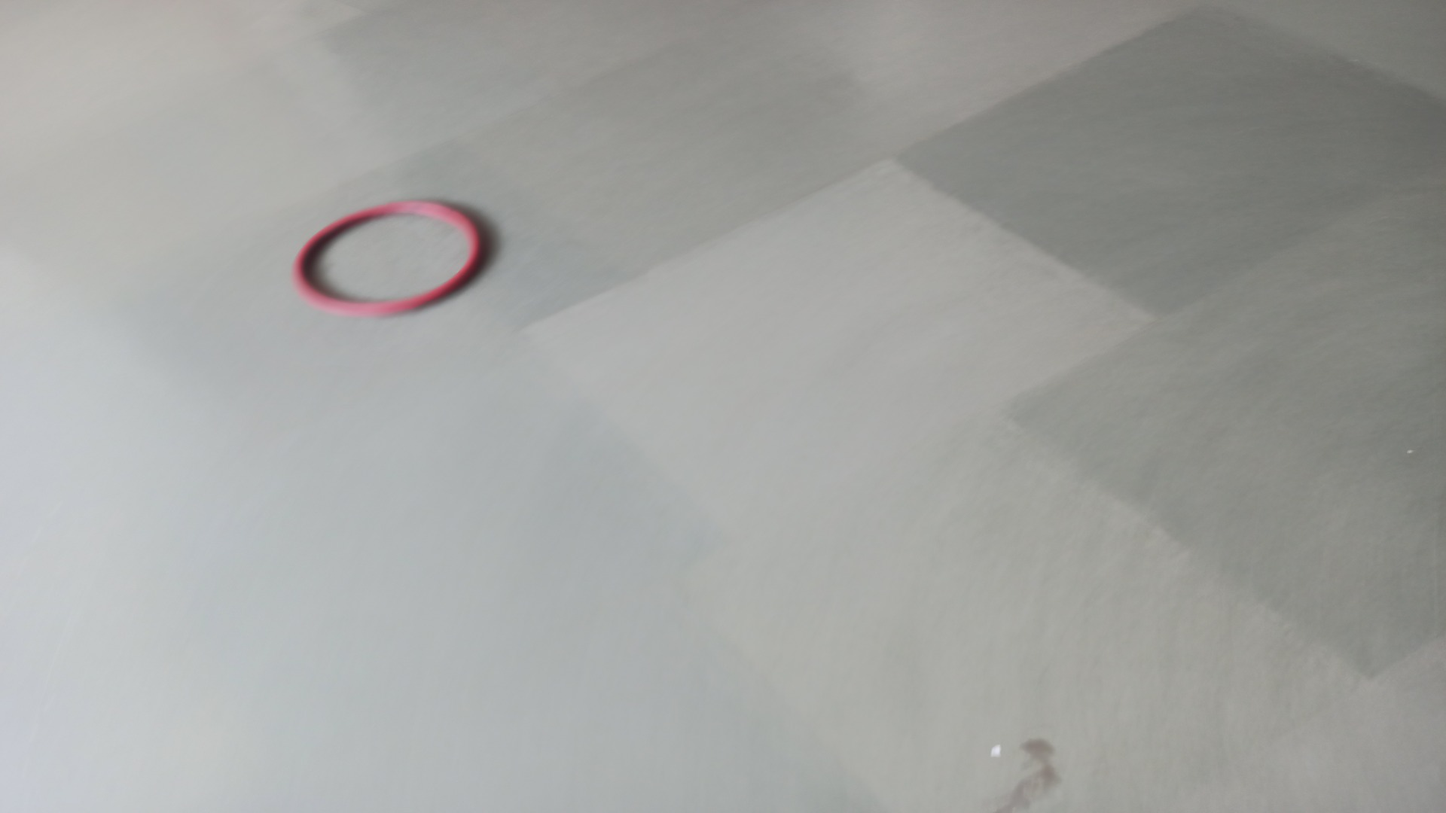Red ring: (291, 198, 486, 309)
